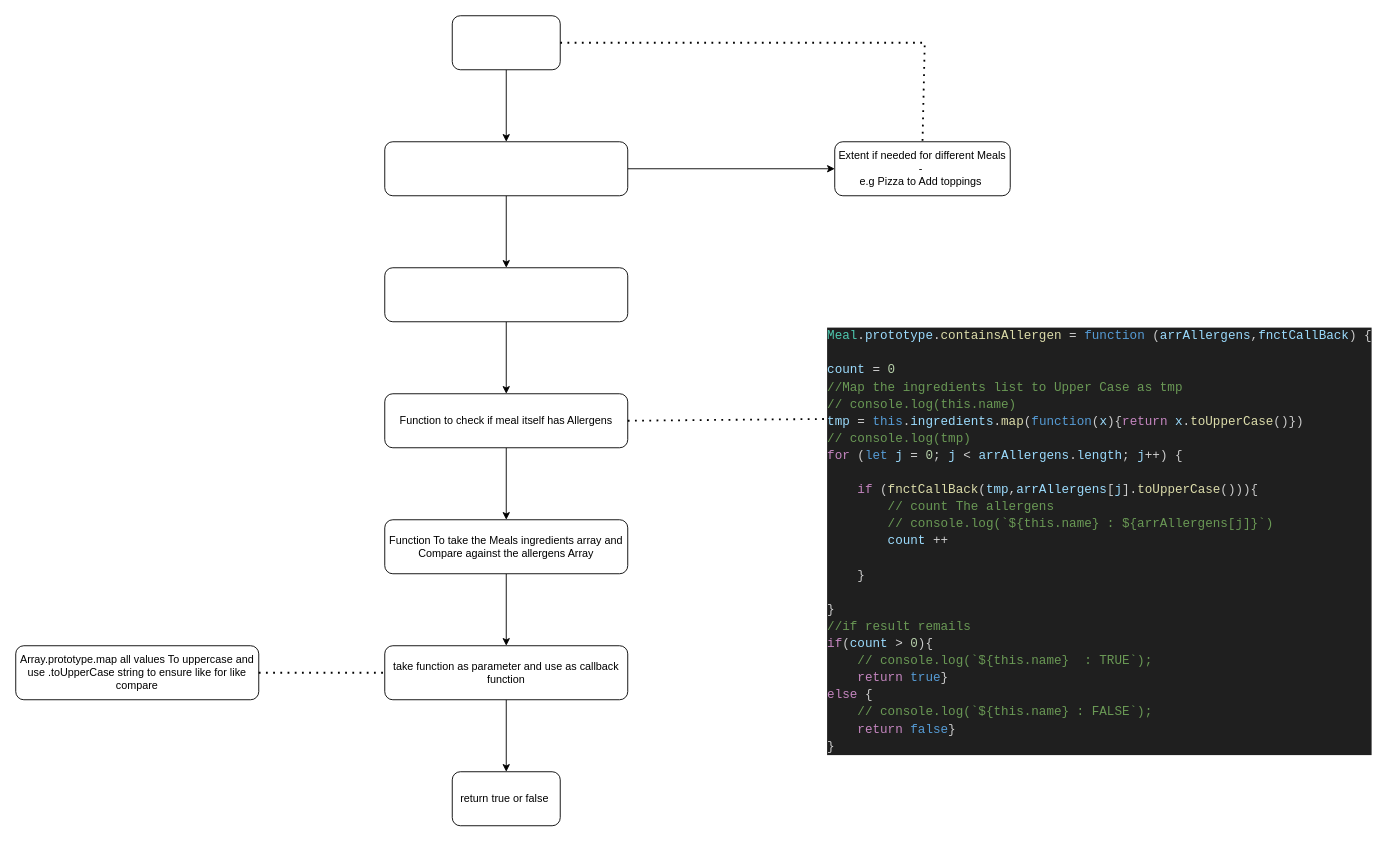
Image size: 1388x842. Some labels were removed from this diagram. Each missing label, with the centre of its shape:
"Add function to the __proto__ to ensure all instances do not store directly" goes at point 506,294.
"Constructor" goes at point 505,42.
"Name , Ingrediants , Instructions , Image" goes at point 506,168.
